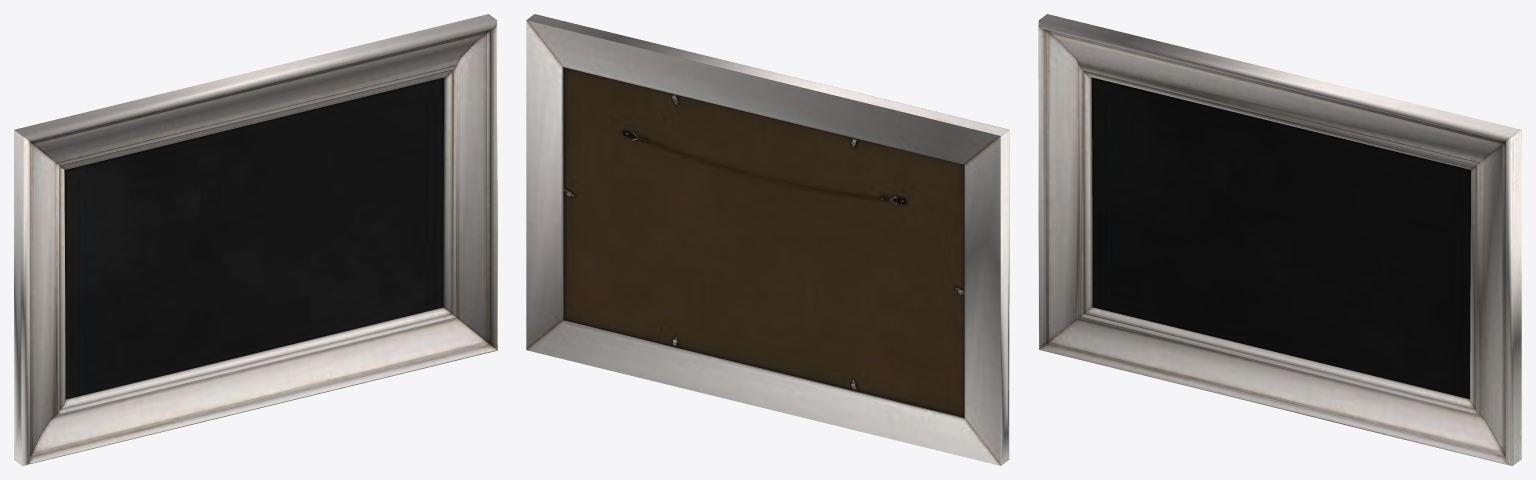
File: hanging_picture_frame_02.glb
The picture shows the model from 3 angles, left to right: view 1: azimuth 30°, elevation 25°; view 2: azimuth 150°, elevation 25°; view 3: azimuth 330°, elevation 25°; orthographic projection.
Visible parts, largest first — view 1: hanging_picture_frame_02; view 2: hanging_picture_frame_02; view 3: hanging_picture_frame_02.
Part boxes in pixels (<box>): hanging_picture_frame_02: <box>14,14,497,465</box>; hanging_picture_frame_02: <box>526,14,1009,465</box>; hanging_picture_frame_02: <box>1038,14,1521,465</box>.
Bounding box in the file's own units: 0.7512 × 0.4988 × 0.0322.
Materials: 3 (3 with a texture image).
